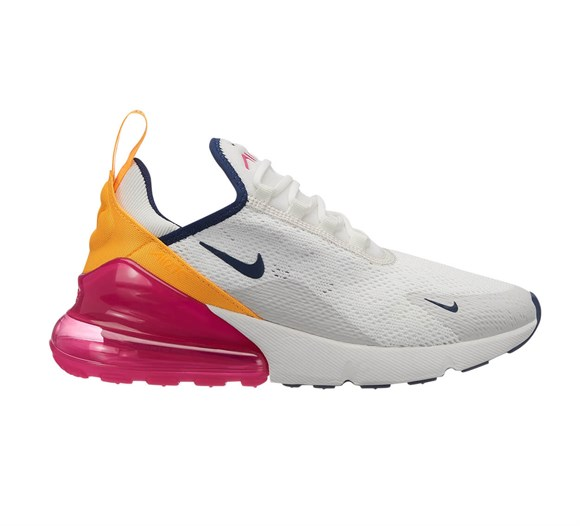nike: (199, 242, 270, 281), (422, 297, 461, 317)
